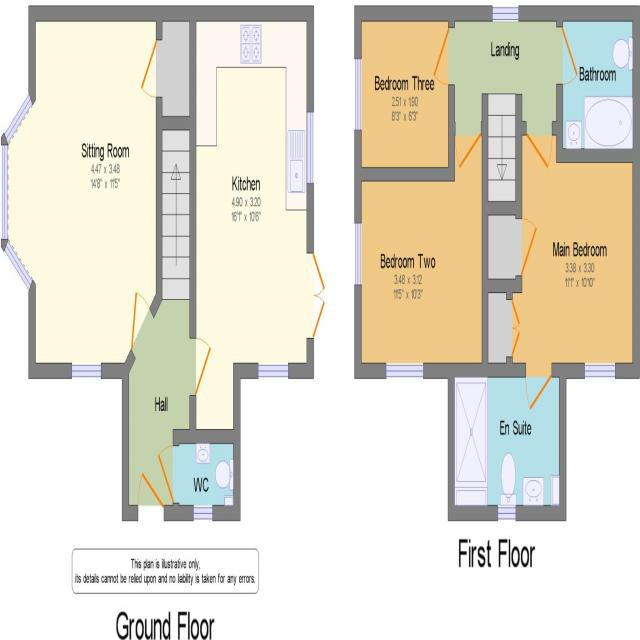DOOR: (306, 246, 327, 347), (130, 284, 155, 363), (138, 32, 163, 102), (555, 22, 579, 87), (432, 22, 455, 89), (189, 334, 213, 398), (524, 362, 553, 413), (525, 122, 554, 171), (516, 217, 538, 279)
ROOM: (0, 3, 163, 380), (189, 3, 327, 445), (482, 120, 640, 413), (354, 134, 489, 379), (354, 5, 455, 182)
WINDOW: (3, 92, 33, 145), (3, 239, 33, 292), (0, 142, 9, 243), (306, 109, 315, 188), (385, 362, 424, 380), (583, 362, 617, 380), (354, 56, 362, 132), (256, 362, 289, 379), (354, 221, 362, 287), (71, 363, 102, 380), (492, 5, 519, 23), (192, 504, 214, 523), (496, 504, 517, 521)
